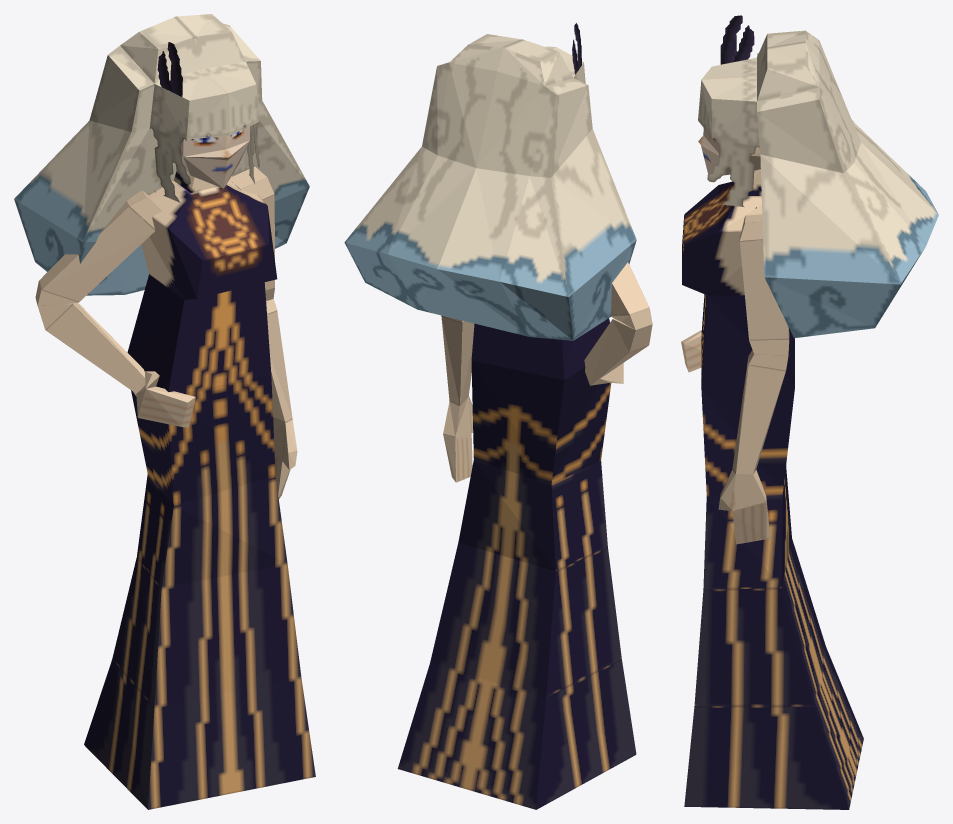
Rendered from Sapphire Model.obj.
3 views of the same model, side by side, from view 1: azimuth 30°, elevation 25°; view 2: azimuth 150°, elevation 25°; view 3: azimuth 270°, elevation 25° (orthographic).
Visible parts, largest first — view 1: Default; view 2: Default; view 3: Default.
Part boxes in pixels (bbox=[...]): Default: bbox=[14, 14, 315, 809]; Default: bbox=[344, 23, 652, 809]; Default: bbox=[681, 15, 938, 809].
Size of the model in its own units: 10.6 by 29.64 by 9.29.
